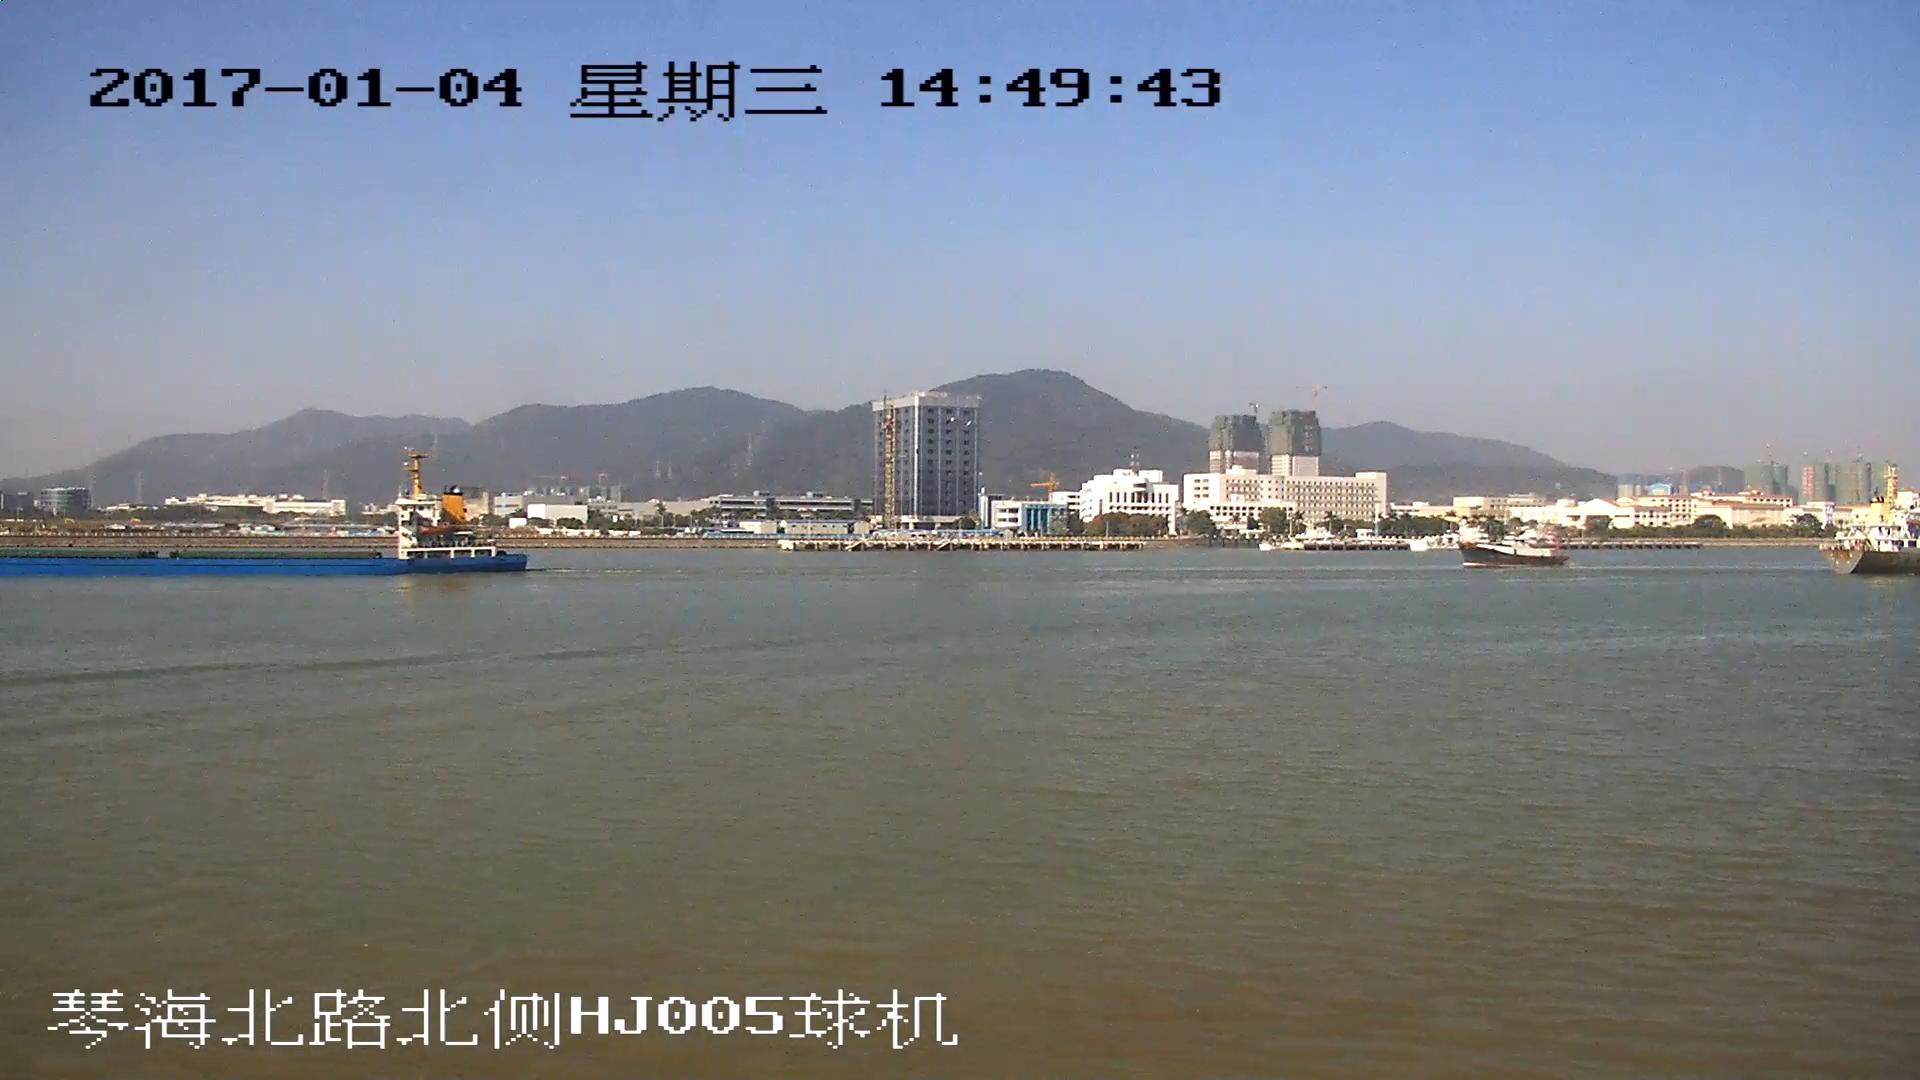general cargo ship: (1, 456, 528, 574), (1831, 469, 1920, 577)
